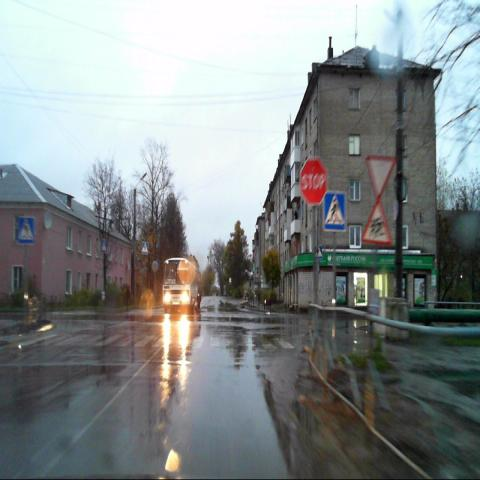1_23: (361, 198, 393, 245)
2_4: (366, 155, 398, 200)
2_5: (300, 158, 328, 204)
5_19_1: (323, 192, 346, 232), (18, 216, 34, 246), (314, 245, 322, 260), (142, 241, 148, 255)
